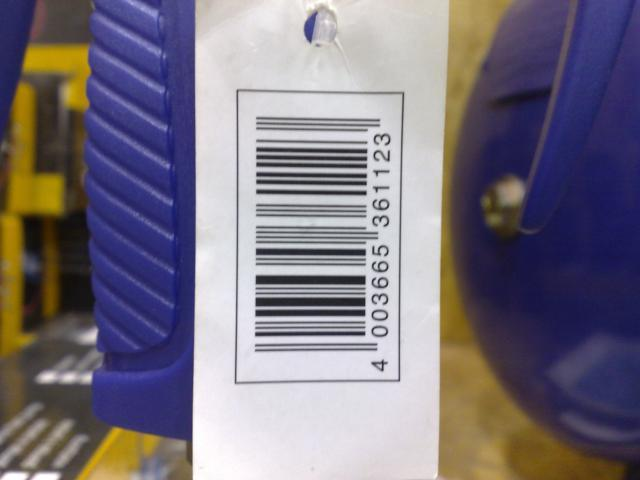Barcode: (236, 89, 399, 383)
